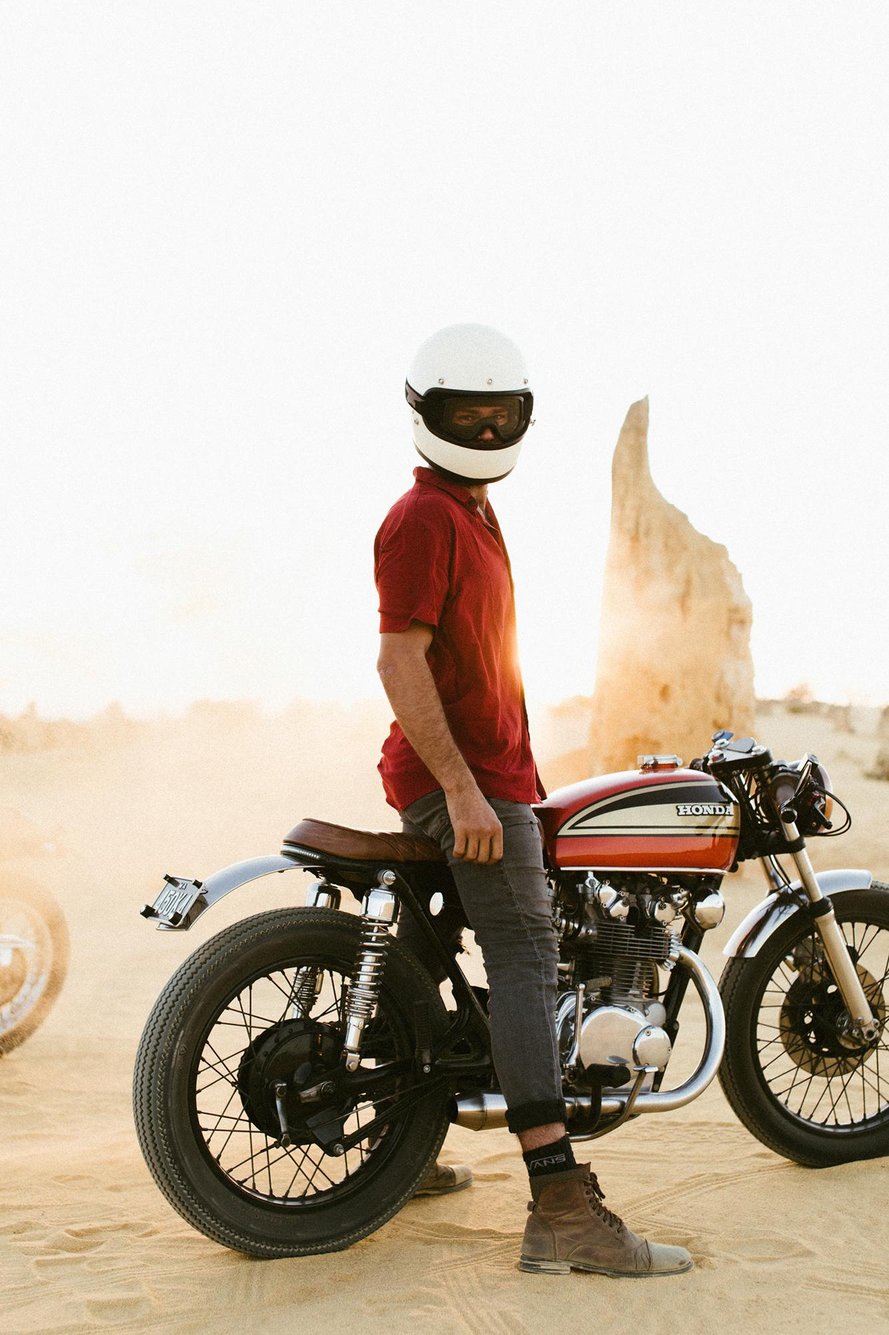helmet: (403, 321, 537, 488)
